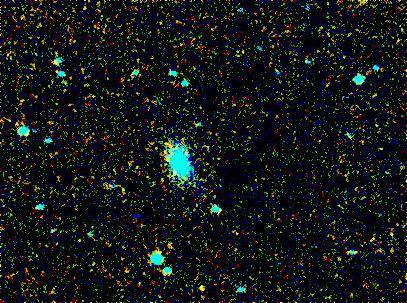star: (184, 275, 214, 303)
